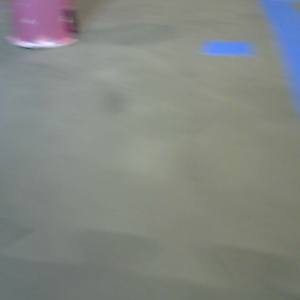middle: (7, 1, 79, 47)
